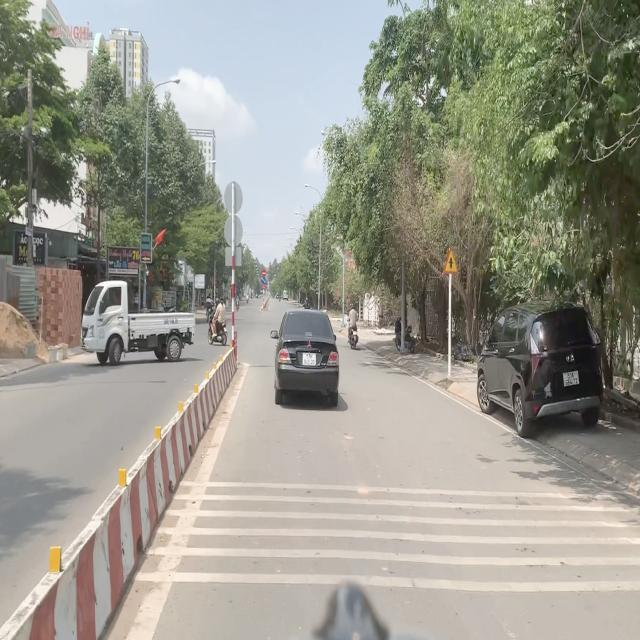Giao voi duong khong uu tien: (443, 247, 459, 274)
